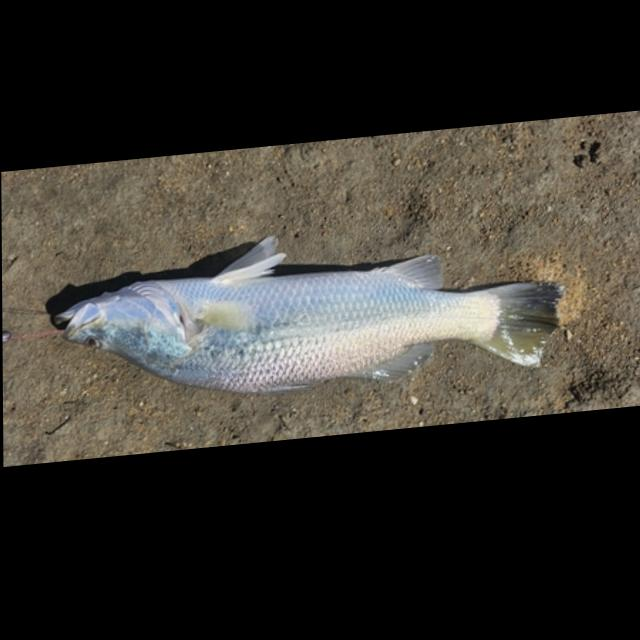Seabass: (50, 207, 559, 421)
